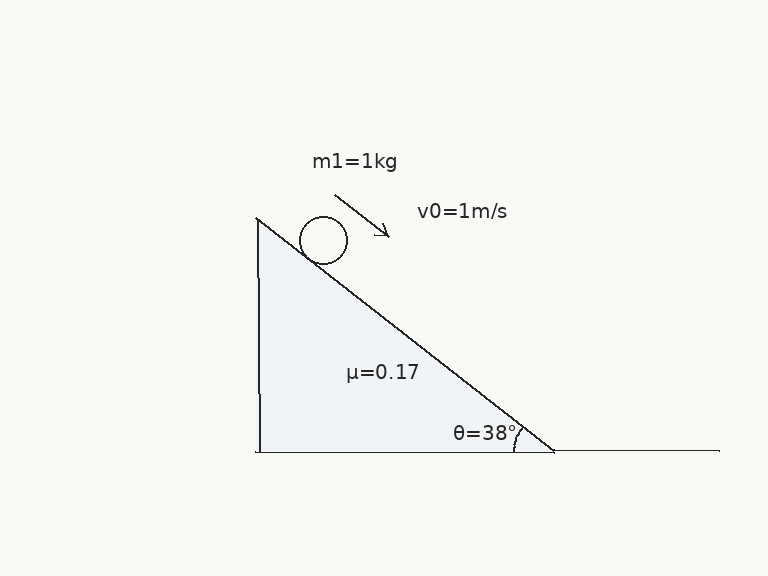ball: (297, 214, 349, 266)
ramp: (255, 217, 556, 453)
